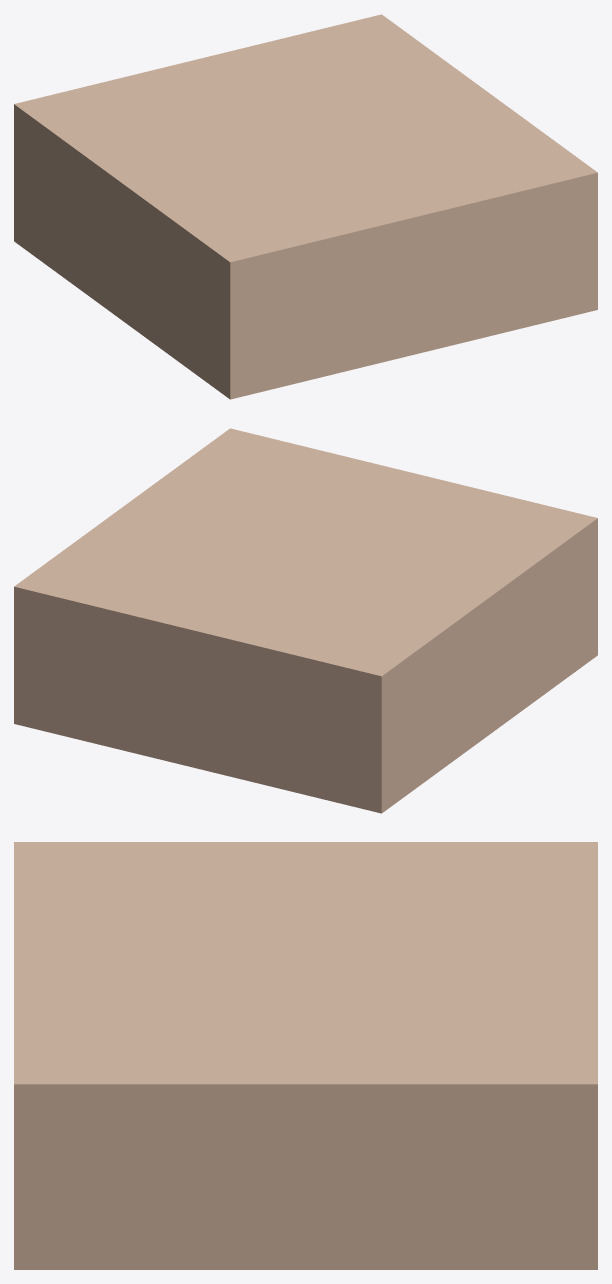
The model's file is SM_Shape_Square__02.fbx.
3 renders of one model, top to bottom at view 1: azimuth 30°, elevation 25°; view 2: azimuth 150°, elevation 25°; view 3: azimuth 270°, elevation 25°, orthographic. The views are drawn at different scales.
Visible parts, largest first — view 1: SM_Shape_Square__02; view 2: SM_Shape_Square__02; view 3: SM_Shape_Square__02.
Part boxes in pixels (box(x1,y1,x2,y2)): SM_Shape_Square__02: box(14, 14, 597, 399); SM_Shape_Square__02: box(14, 428, 597, 813); SM_Shape_Square__02: box(14, 842, 597, 1269).
Size of the model in its own units: 5.92 by 2.11 by 6.03.
